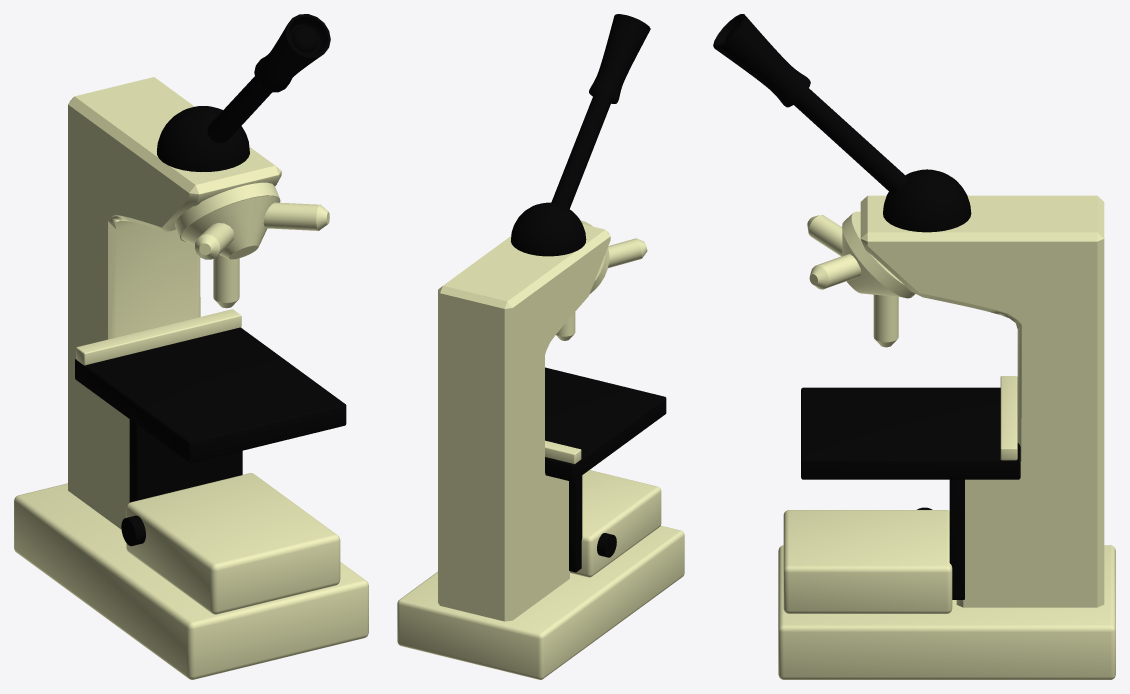
The model's file is mikroskop.FBX.
3 views of the same model, side by side, from view 1: azimuth 30°, elevation 25°; view 2: azimuth 150°, elevation 25°; view 3: azimuth 270°, elevation 25° (orthographic). The views are drawn at different scales.
Visible parts, largest first — view 1: Rectangle001, ChamferBox001, ChamferBox003, ChamferBox002, Line004, ChamferBox005, Sphere001, ChamferBox004, Cone001, ChamferCyl003, Cylinder003, ChamferCyl001 (+2 smaller); view 2: Rectangle001, ChamferBox001, ChamferBox003, ChamferBox002, Line004, Sphere001, ChamferBox005, ChamferCyl002, ChamferBox004; view 3: Rectangle001, ChamferBox001, ChamferBox003, ChamferBox002, Line004, Sphere001, ChamferBox005, Cylinder003, ChamferBox004, ChamferCyl001, ChamferCyl003, ChamferCyl002 (+1 smaller).
Boxes of the visible parts, bbox=[...] form: Rectangle001: bbox=[68, 77, 281, 529]; ChamferBox001: bbox=[14, 483, 368, 679]; ChamferBox003: bbox=[75, 327, 346, 463]; ChamferBox002: bbox=[126, 473, 340, 614]; Line004: bbox=[207, 14, 330, 143]; ChamferBox005: bbox=[129, 419, 242, 502]; Sphere001: bbox=[157, 106, 249, 171]; ChamferBox004: bbox=[76, 309, 241, 365]; Cone001: bbox=[181, 195, 279, 259]; ChamferCyl003: bbox=[263, 202, 329, 230]; Cylinder003: bbox=[175, 182, 280, 241]; ChamferCyl001: bbox=[213, 255, 239, 308]; Rectangle001: bbox=[438, 224, 610, 621]; ChamferBox001: bbox=[397, 525, 684, 679]; ChamferBox003: bbox=[545, 367, 666, 481]; ChamferBox002: bbox=[570, 470, 661, 577]; Line004: bbox=[551, 14, 650, 208]; Sphere001: bbox=[510, 202, 586, 256]; ChamferBox005: bbox=[569, 475, 582, 572]; ChamferCyl002: bbox=[608, 238, 647, 268]; ChamferBox004: bbox=[545, 440, 581, 464]; Rectangle001: bbox=[860, 195, 1104, 607]; ChamferBox001: bbox=[778, 545, 1115, 679]; ChamferBox003: bbox=[801, 387, 1020, 479]; ChamferBox002: bbox=[783, 510, 952, 613]; Line004: bbox=[713, 14, 907, 193]; Sphere001: bbox=[883, 169, 971, 232]; ChamferBox005: bbox=[949, 479, 964, 599]; Cylinder003: bbox=[842, 211, 915, 298]; ChamferBox004: bbox=[1000, 376, 1017, 460]; ChamferCyl001: bbox=[873, 294, 898, 347]; ChamferCyl003: bbox=[809, 254, 861, 289]; ChamferCyl002: bbox=[807, 215, 842, 256].
Bounding box in the file's own units: 32.33 × 112 × 65.73.
